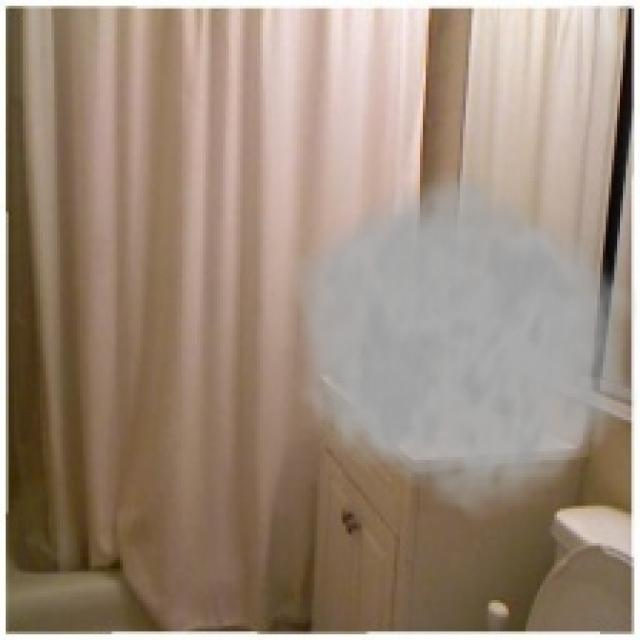smoke: (277, 163, 637, 528)
